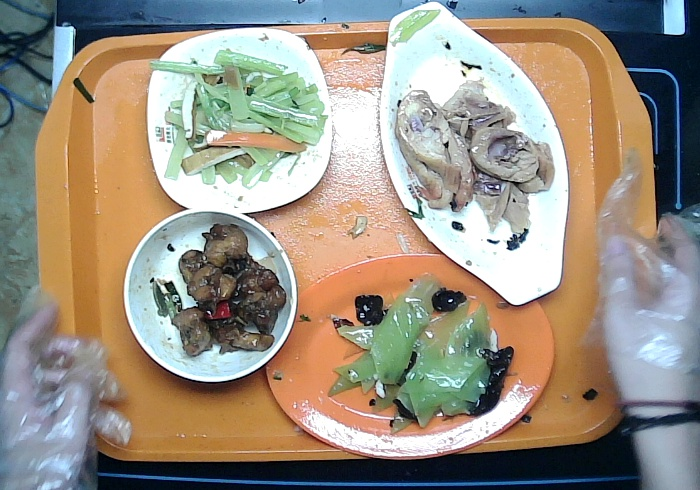NLDX-Bai_Se_Xiao_Fang_Die: (146, 26, 333, 215)
NLDX-Fan_Wan: (123, 209, 297, 382)
NLDX-Ju_Se_Pan: (265, 252, 555, 459)
NLDX-Yu_Pan: (378, 1, 569, 307)
